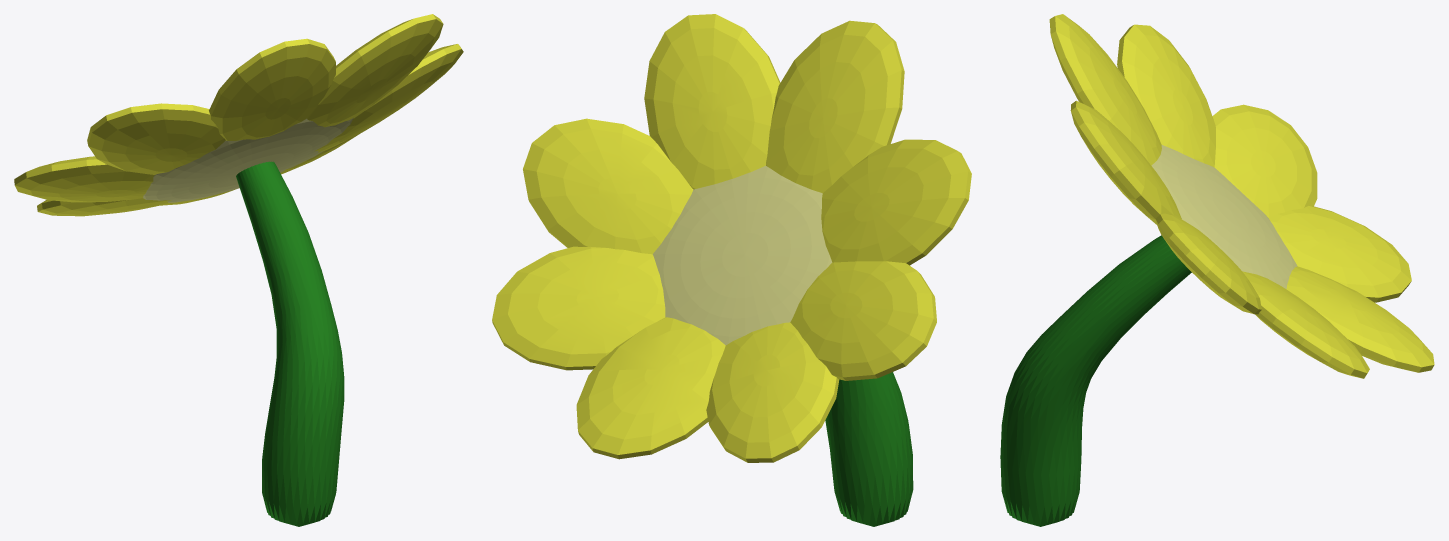
Rendered from flower.fbx.
The picture shows the model from 3 angles, left to right: view 1: azimuth 30°, elevation 25°; view 2: azimuth 150°, elevation 25°; view 3: azimuth 270°, elevation 25°; orthographic projection. The views are drawn at different scales.
Visible parts, largest first — view 1: Sphere.001, Cylinder, Sphere; view 2: Sphere.001, Sphere, Cylinder; view 3: Sphere.001, Cylinder, Sphere.
Boxes of the visible parts, x1,y1,x2,y2 form: Sphere.001: (14, 14, 463, 216); Cylinder: (236, 161, 344, 526); Sphere: (143, 118, 353, 202); Sphere.001: (492, 14, 971, 462); Sphere: (652, 165, 832, 345); Cylinder: (825, 372, 913, 526); Sphere.001: (1049, 14, 1434, 378); Cylinder: (1000, 235, 1191, 526); Sphere: (1151, 145, 1297, 288).
Size of the model in its own units: 1408 by 1581 by 1227.
